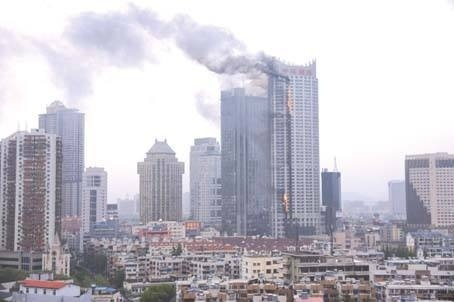fire: (280, 190, 291, 212)
